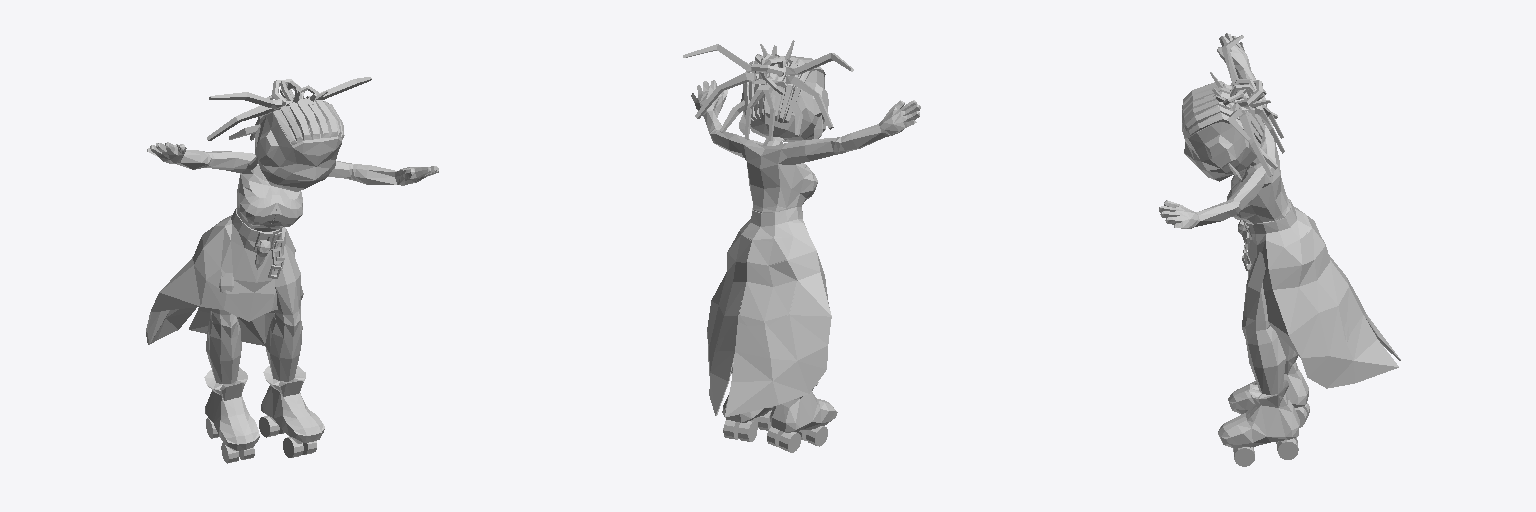
The model's file is bruja_000172.obj.
3 renders of one model, left to right at view 1: azimuth 30°, elevation 25°; view 2: azimuth 150°, elevation 25°; view 3: azimuth 270°, elevation 25°, orthographic.
Parts seen in each view (by area): view 1: Bruja_Plane.001; view 2: Bruja_Plane.001; view 3: Bruja_Plane.001.
Part boxes in pixels (x1,y1,x2,y2): Bruja_Plane.001: (146,77,438,463); Bruja_Plane.001: (683,40,920,452); Bruja_Plane.001: (1159,33,1400,466).
Size of the model in its own units: 11.47 by 16.37 by 9.36.